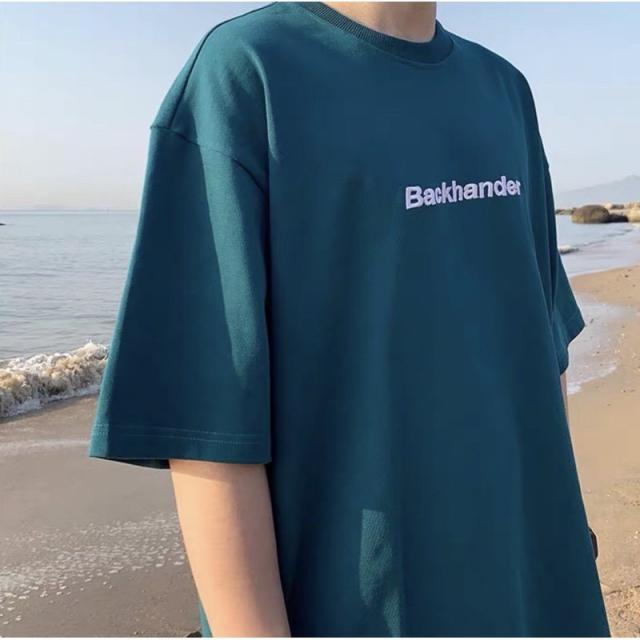Shirt: (89, 1, 612, 640)
